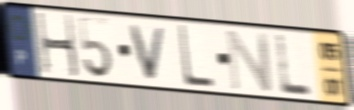5: (77, 13, 116, 81)
H: (34, 11, 82, 80)
L: (274, 32, 316, 99), (175, 23, 216, 91)
N: (224, 28, 275, 93)
V: (127, 23, 169, 83)
